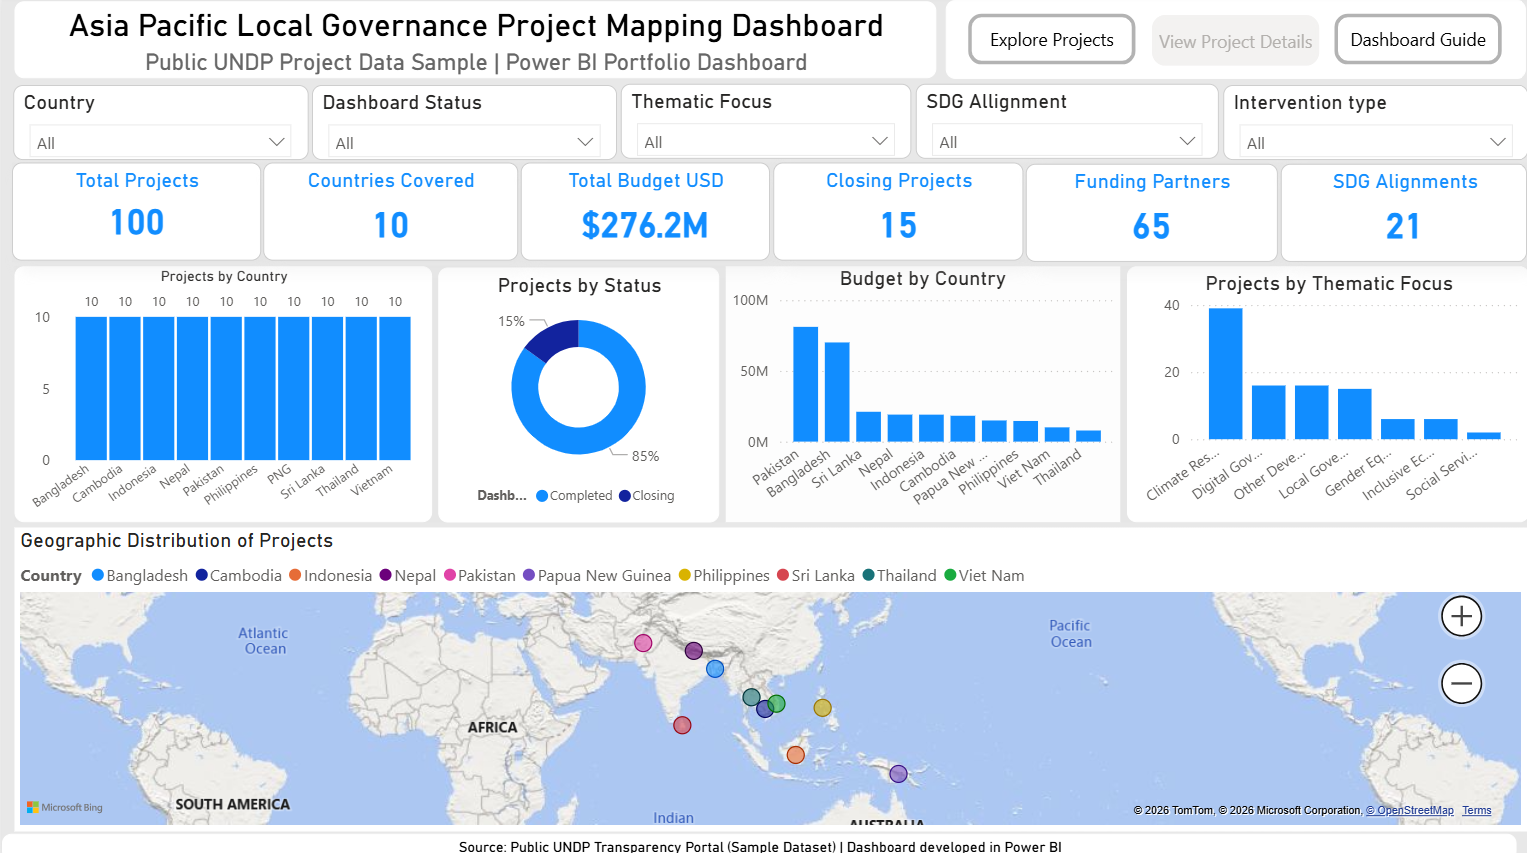

What the dashboard file says about the page in this screenshot:
{"tool":"powerbi","page":{"name":"Executive Overview","canvas":[1280,720],"ordinal":0},"visuals":[{"type":"shape","box":[784.7,3.7,483.2,65.5],"z":0,"group":"g4"},{"type":"textbox","title":"Asia Pacific Local Governance Project Mapping Dashboard","box":[9.9,4.9,766.2,64.3],"z":0},{"type":"slicer","title":"Intervention type","fields":{"Values":["Projects.Intervention Type"]},"box":[1015.1,75.5,254.7,62.7],"z":0,"group":"g3"},{"type":"columnChart","title":"Projects by Country","fields":{"Category":["Projects.Country Short"],"Y":["Projects.Total Projects"]},"box":[10.5,226.1,347.1,212.4],"z":0,"group":"g1"},{"type":"actionButton","title":"Executive Overview","box":[803.2,14.8,139,42],"z":1000,"group":"g4"},{"type":"slicer","title":"SDG Allignment","fields":{"Values":["Projects.SDG Alignment"]},"box":[759.6,74.3,252.3,62.7],"z":1000,"group":"g3"},{"type":"card","title":"Total Projects","fields":{"Values":["Projects.Total Projects"]},"box":[8.1,139.7,207,81.3],"z":1000,"group":"g2"},{"type":"group","id":"g1","title":"Group 2","box":[10.5,226,1259.9,212.8],"z":1000},{"type":"clusteredColumnChart","title":"Budget by Country","fields":{"Category":["Projects.Country"],"Y":["Projects.Total Budget USD"]},"box":[602.2,226,327.9,212.8],"z":1000,"group":"g1"},{"type":"actionButton","title":"Executive Overview","box":[955.7,16,139,42],"z":2000,"group":"g4"},{"type":"slicer","title":"Thematic Focus","fields":{"Values":["Projects.Thematic Focus"]},"box":[514.5,74.3,241.9,62.7],"z":2000,"group":"g3"},{"type":"group","id":"g2","title":"Group 1","box":[8.1,139.5,1260.5,82.6],"z":2000},{"type":"card","title":"Countries Covered","fields":{"Values":["Projects.Countries Covered"]},"box":[217.4,139.5,211.7,81.3],"z":2000,"group":"g2"},{"type":"columnChart","title":"Projects by Thematic Focus","fields":{"Category":["Projects.Thematic Focus"],"Y":["Projects.Total Projects"]},"box":[935.5,226,334.9,212.8],"z":2000,"group":"g1"},{"type":"actionButton","title":"Executive Overview","box":[1108.3,14.8,139,42],"z":3000,"group":"g4"},{"type":"group","id":"g3","title":"Group 3","box":[9.3,74.3,1260.5,64],"z":3000},{"type":"slicer","title":"Dashboard Status","fields":{"Values":["Projects.Dashboard Status"]},"box":[257.8,75.5,253.5,62.7],"z":3000,"group":"g3"},{"type":"card","title":"Total Budget USD","fields":{"Values":["Projects.Total Budget USD Display"]},"box":[431.3,139.5,207,81.3],"z":3000,"group":"g2"},{"type":"donutChart","title":"Projects by Status","fields":{"Category":["Projects.Dashboard Status"],"Y":["Projects.Total Projects"]},"box":[363,226.9,233.7,211.6],"z":3000,"group":"g1"},{"type":"slicer","title":"Country","fields":{"Values":["Projects.Country"]},"box":[9.3,75.5,245.4,62.7],"z":4000,"group":"g3"},{"type":"card","title":"Closing Projects","fields":{"Values":["Projects.Closing Projects"]},"box":[640.6,139.5,208.2,81.3],"z":4000,"group":"g2"},{"type":"map","title":"Geographic Distribution of Projects","fields":{"Y":["Projects.Latitude"],"X":["Projects.Longitude"],"Size":["Projects.Total Projects"],"Series":["Projects.Country"]},"box":[10.5,443,1258.1,252.3],"z":4000},{"type":"card","title":"Funding Partners","fields":{"Values":["Projects.Donor Funding Sources"]},"box":[851.1,140.8,209.3,81.3],"z":5000,"group":"g2"},{"type":"textbox","title":"Source: Public UNDP Transparency Portal (Sample Dataset) | Dashboard developed in Power BI","box":[0,697.7,1259.3,22.1],"z":5000},{"type":"group","id":"g4","title":"Group 4","box":[784.7,3.7,483.2,65.5],"z":6000},{"type":"card","title":"SDG Alignments","fields":{"Values":["Projects.SDG Categories"]},"box":[1062.7,140.8,205.9,81.3],"z":6000,"group":"g2"}]}

Visuals, with their boxes in screenshot pixels (x1, y1, x2, y2), scaled from the page's 1280x720 canvas onto the 1527x853 screenshot:
shape: 936, 4, 1513, 82
"Asia Pacific Local Governance Project Mapping Dashboard" textbox: 12, 6, 926, 82
"Intervention type" slicer: 1211, 89, 1515, 164
"Projects by Country" columnChart: 13, 268, 427, 520
"Executive Overview" actionButton: 958, 18, 1124, 67
"SDG Allignment" slicer: 906, 88, 1207, 162
"Total Projects" card: 10, 166, 257, 262
"Group 2" group: 13, 268, 1516, 520
"Budget by Country" clusteredColumnChart: 718, 268, 1110, 520
"Executive Overview" actionButton: 1140, 19, 1306, 69
"Thematic Focus" slicer: 614, 88, 902, 162
"Group 1" group: 10, 165, 1513, 263
"Countries Covered" card: 259, 165, 512, 262
"Projects by Thematic Focus" columnChart: 1116, 268, 1516, 520
"Executive Overview" actionButton: 1322, 18, 1488, 67
"Group 3" group: 11, 88, 1515, 164
"Dashboard Status" slicer: 308, 89, 610, 164
"Total Budget USD" card: 515, 165, 761, 262
"Projects by Status" donutChart: 433, 269, 712, 520
"Country" slicer: 11, 89, 304, 164
"Closing Projects" card: 764, 165, 1013, 262
"Geographic Distribution of Projects" map: 13, 525, 1513, 824
"Funding Partners" card: 1015, 167, 1265, 263
"Source: Public UNDP Transparency Portal (Sample Dataset) | Dashboard developed in Power BI" textbox: 0, 827, 1502, 852
"Group 4" group: 936, 4, 1513, 82
"SDG Alignments" card: 1268, 167, 1513, 263
